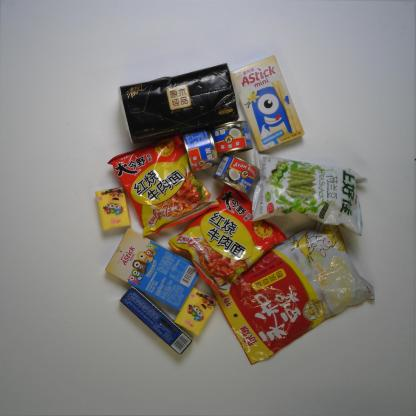Canned Food: (213, 151, 263, 197), (208, 117, 254, 159), (180, 129, 222, 174)
Dessert: (104, 227, 205, 313), (226, 53, 304, 155)
Instant Drink: (207, 212, 377, 370)
Instant Noodles: (166, 174, 291, 300), (106, 129, 222, 238)
Personal Hygiene: (118, 284, 194, 358)
Puffed Food: (247, 149, 368, 238)
Tissue: (116, 60, 240, 147), (173, 285, 220, 337), (95, 185, 134, 234)
